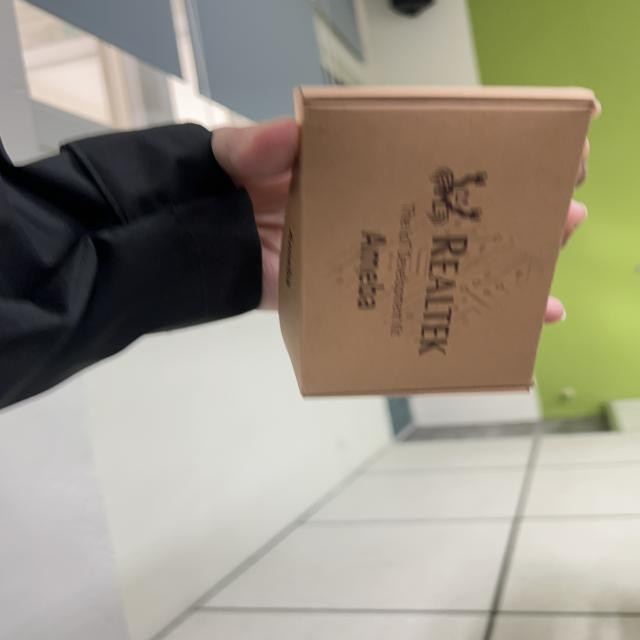box: (282, 64, 590, 410)
